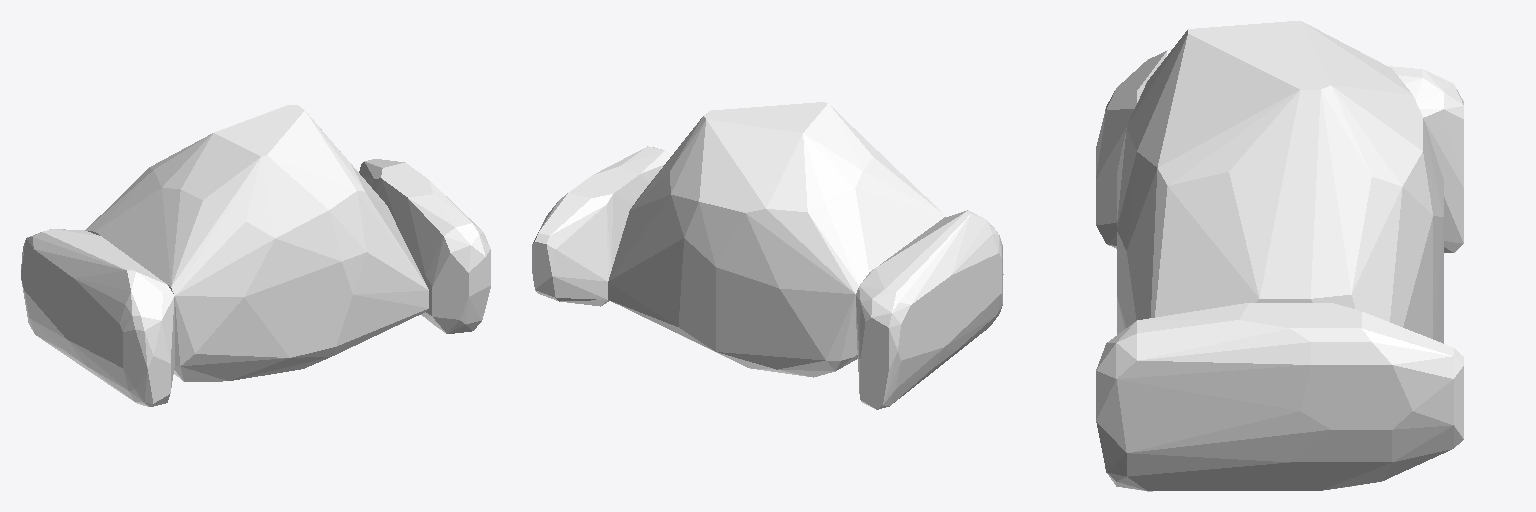
URDF robot description (one.urdf):
<?xml version="1.0" ?>
<robot name="one.urdf">
  <link name="baseLink">
    <inertial>
      <origin rpy="0 0 0" xyz="0 0 0"/>
       <mass value="0.0"/>
       <inertia ixx="0" ixy="0" ixz="0" iyy="0" iyz="0" izz="0"/>
    </inertial>
    <visual>
      <origin rpy="0 0 0" xyz="0 0 0"/>
      <geometry>
        <mesh filename="one.obj" scale="1.0 1.0 1.0"/>
      </geometry>
      <material name="white">
       <color rgba="1 1 1 1"/>
     </material>
    </visual>
    <collision>
      <origin rpy="0 0 0" xyz="0 0 0"/>
      <geometry>
        <mesh filename="one.obj" scale="1.0 1.0 1.0"/>
        <!-- You could also specify the collision (for the one) with a "box" tag: -->
        <!-- <box size=".06 .06 .06"/> -->
      </geometry>
    </collision>
  </link>
</robot>
        

--- What the picture shows (computed from the rendered views, not written in the file) ---
The picture shows the robot from 3 angles, left to right: view 1: azimuth 30°, elevation 25°; view 2: azimuth 150°, elevation 25°; view 3: azimuth 270°, elevation 25°; orthographic projection.
Model one.urdf with 1 links and 0 joints (none), rooted at baseLink, posed all joints at 0.
Links seen in each view (by area): view 1: baseLink; view 2: baseLink; view 3: baseLink.
Boxes of the visible links, x1,y1,x2,y2 form: baseLink: (21, 105, 490, 406); baseLink: (532, 102, 1003, 409); baseLink: (1096, 21, 1463, 491).
Bounding box of the posed robot: 0.1539 × 0.0865 × 0.0841 m (x, y, z).
1 mesh visuals loaded from 1 distinct referenced files (1 OBJ).